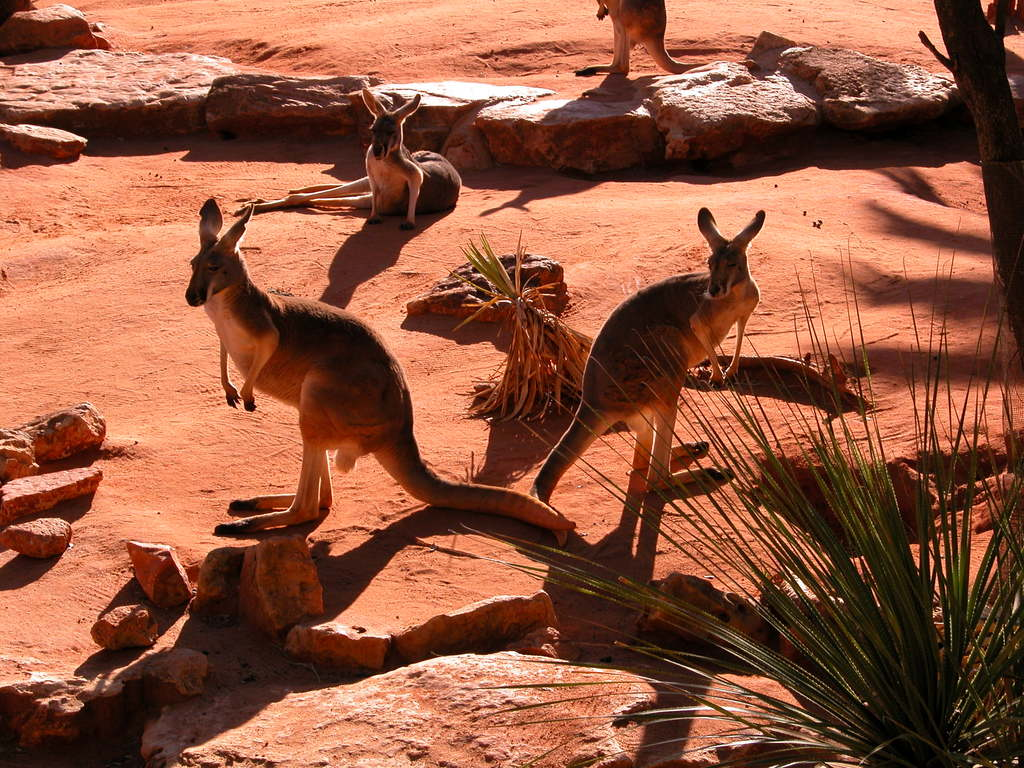kangaroo: (188, 201, 576, 540)
